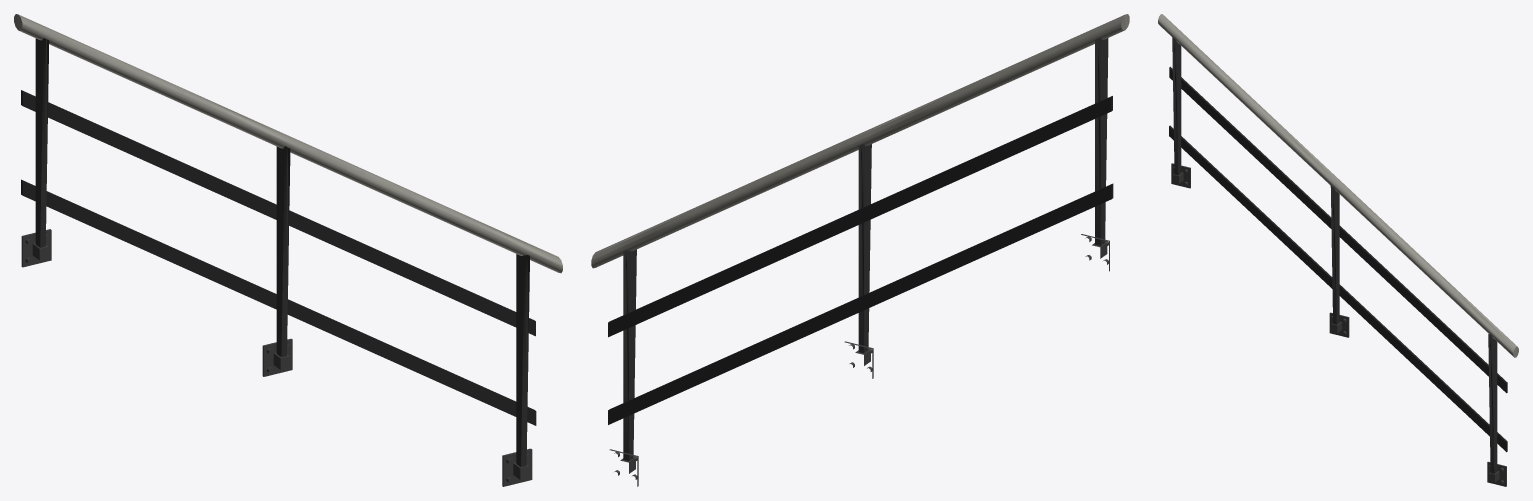
The picture shows the model from 3 angles, left to right: view 1: azimuth 30°, elevation 25°; view 2: azimuth 150°, elevation 25°; view 3: azimuth 330°, elevation 25°; orthographic projection. The views are drawn at different scales.
Visible parts, largest first — view 1: body0_model0_lod0_mesh0; view 2: body0_model0_lod0_mesh0; view 3: body0_model0_lod0_mesh0.
Boxes of the visible parts, x1,y1,x2,y2 form: body0_model0_lod0_mesh0: (14, 14, 562, 486); body0_model0_lod0_mesh0: (591, 14, 1129, 486); body0_model0_lod0_mesh0: (1158, 14, 1518, 486).
Bounding box in the file's own units: 108 × 113 × 3.82.
1 material, 1 textured.
